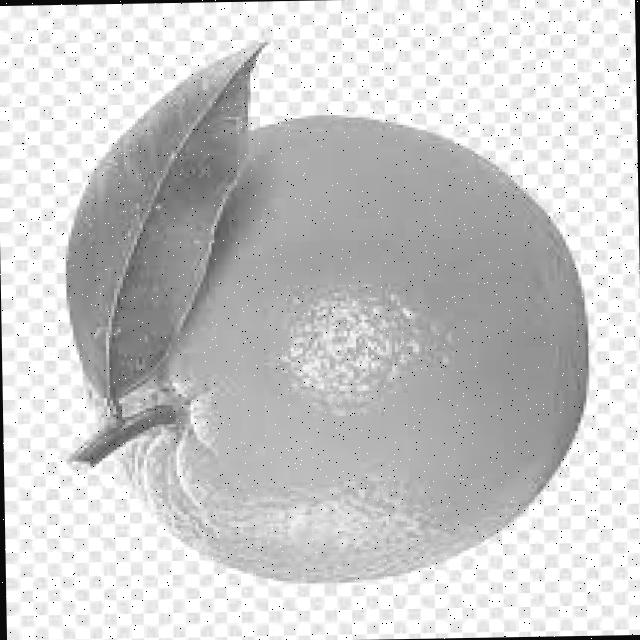orange: (82, 112, 590, 590)
